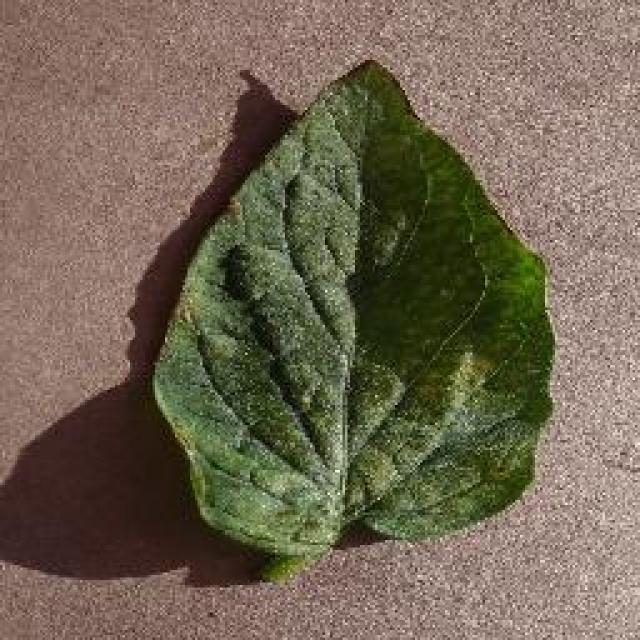Tomato spider mites leaf: (147, 55, 559, 557)
